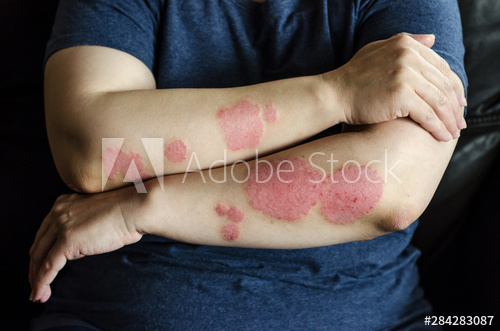Eczema: (88, 98, 380, 232)
